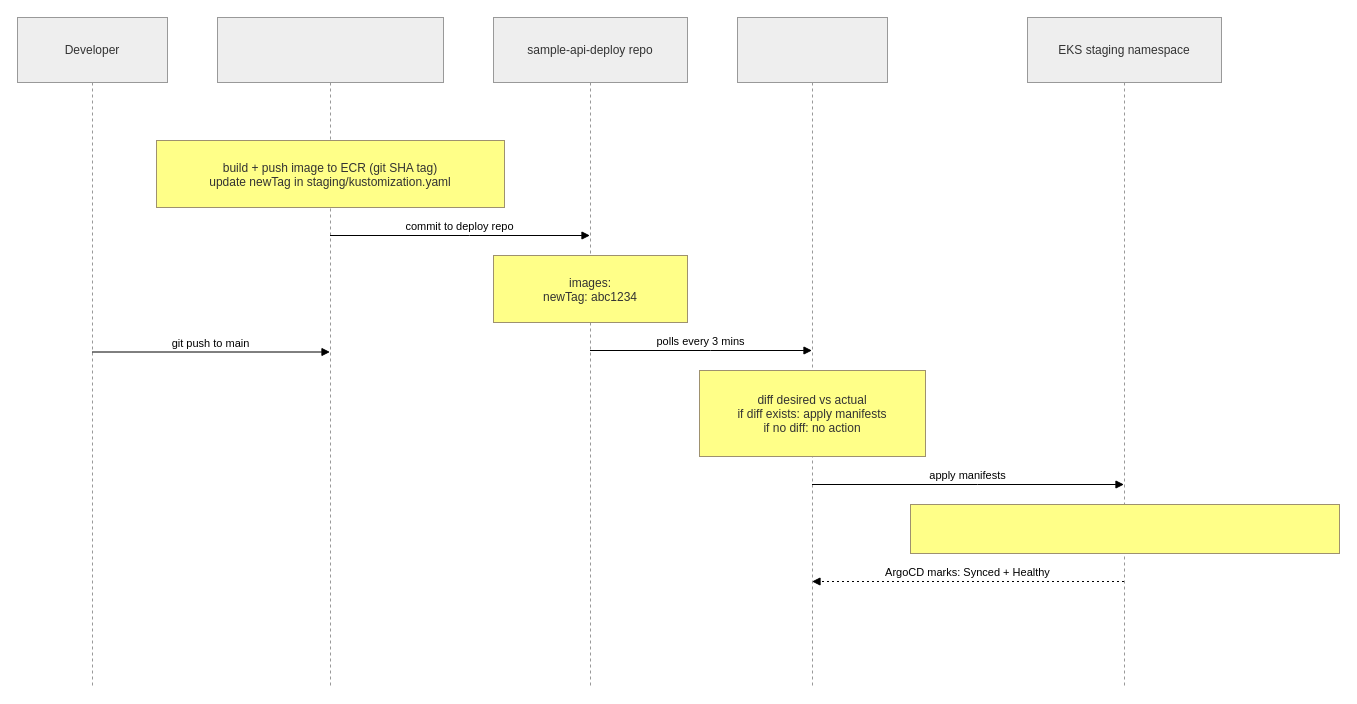
This 1357x704 diagram has some shape labels left out. The box of each missing label's shape, as (x1, y1, x2, y2) in pixels:
ArgoCD: (736, 16, 888, 686)
GitHub Actions (release.yml): (216, 16, 444, 686)
new pod starts, health check passes, old pod terminates: (910, 504, 1340, 554)
